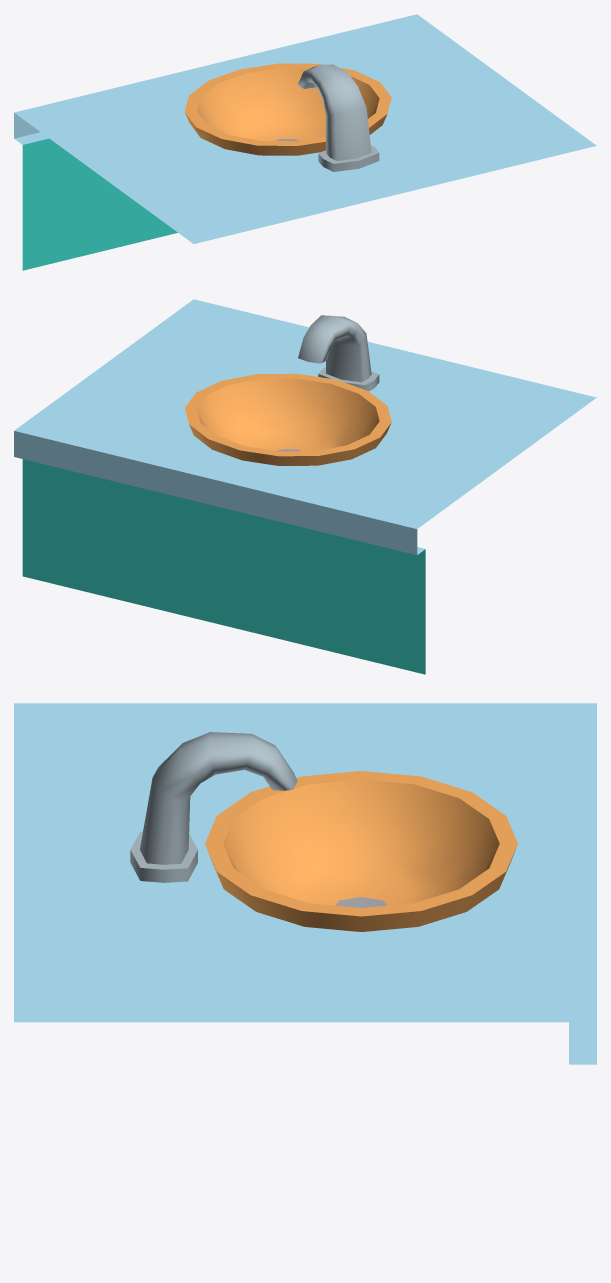
File: Sink_geo.fbx
The picture shows the model from 3 angles, top to bottom: view 1: azimuth 30°, elevation 25°; view 2: azimuth 150°, elevation 25°; view 3: azimuth 270°, elevation 25°; orthographic projection. The views are drawn at different scales.
Parts seen in each view (by area): view 1: Sink_geo; view 2: Sink_geo; view 3: Sink_geo.
Part boxes in pixels (x1,y1,x2,y2): Sink_geo: (14,14,596,270); Sink_geo: (14,299,596,674); Sink_geo: (14,703,596,1064).
Bounding box in the file's own units: 1.89 × 1.46 × 1.02.
